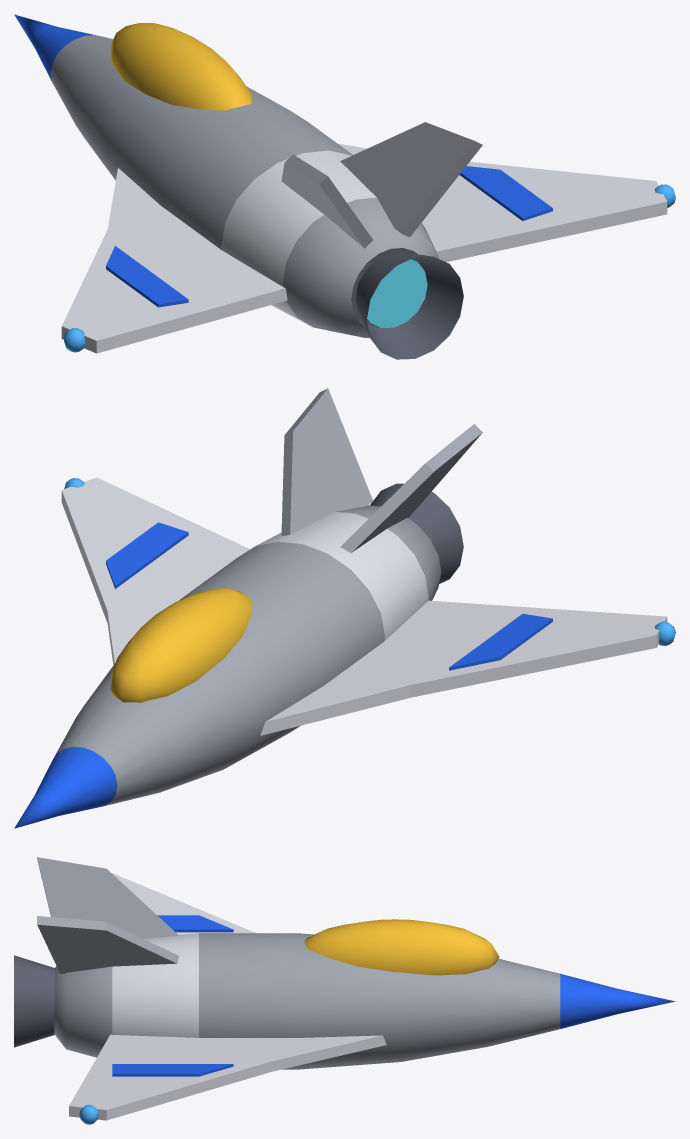
File: nave_ligera.obj
3 views of the same model, one above another, from view 1: azimuth 30°, elevation 25°; view 2: azimuth 150°, elevation 25°; view 3: azimuth 270°, elevation 25° (orthographic). The views are drawn at different scales.
Parts seen in each view (by area): view 1: NaveLigera; view 2: NaveLigera; view 3: NaveLigera.
Boxes of the visible parts, <box> form: NaveLigera: <box>14,14,675,359</box>; NaveLigera: <box>14,388,675,828</box>; NaveLigera: <box>14,857,675,1124</box>.
Size of the model in its own units: 2.01 by 0.668 by 2.29.
